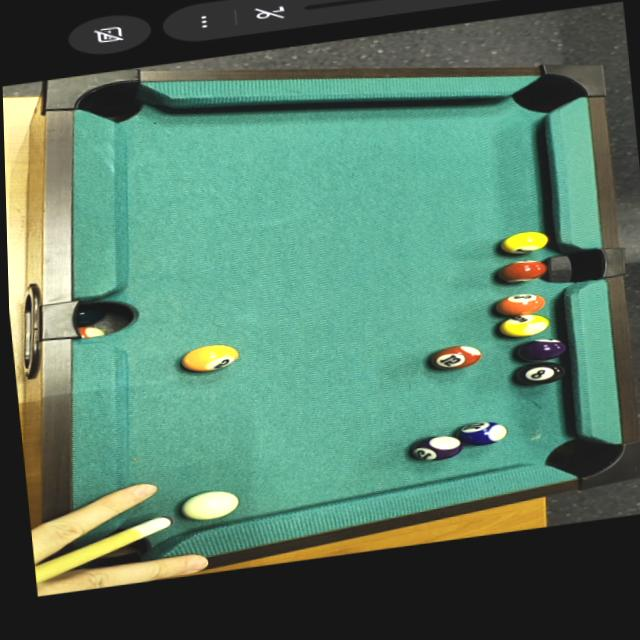cue ball: (176, 487, 239, 525)
other: (175, 339, 240, 375), (405, 429, 469, 465), (504, 334, 571, 367), (506, 356, 570, 390), (488, 307, 551, 341), (451, 415, 514, 449), (485, 227, 551, 259), (426, 341, 487, 375), (492, 255, 549, 289), (491, 290, 547, 319)
